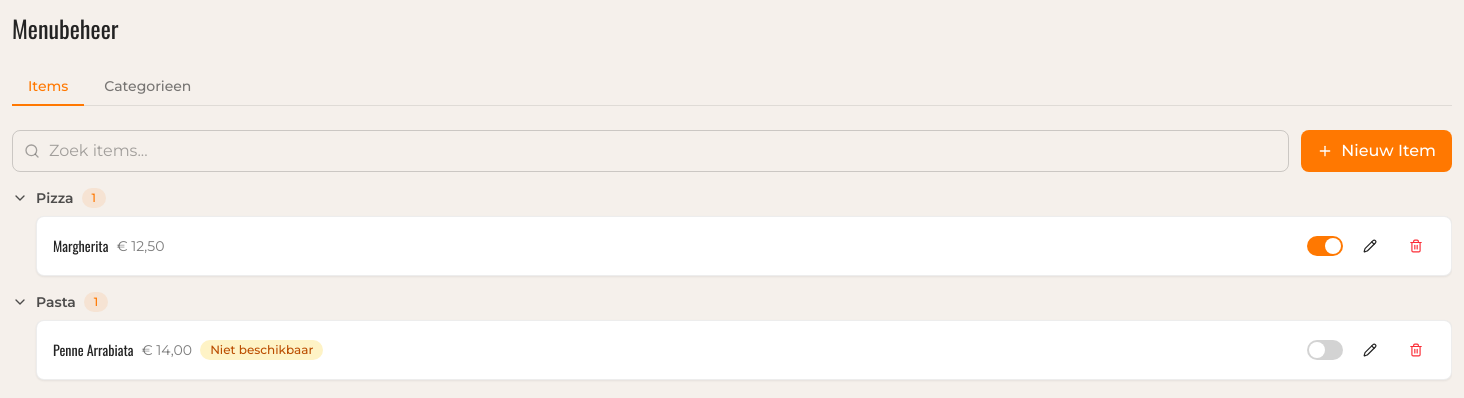
Scenario: MenuManagementPage › switches to categories tab
What coordinates should you click on to do the following:
click the button "Categorieen"
I would click on:
 (148, 87)
Its box is [88, 68, 207, 106].
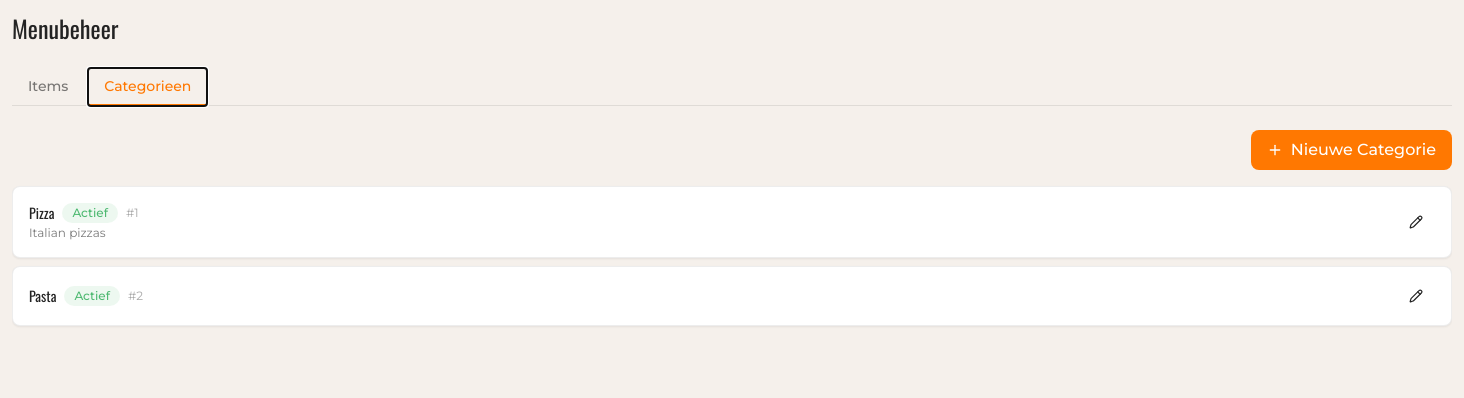
Expected: the button "Nieuwe Categorie" is shown, [1251, 130, 1452, 170]
